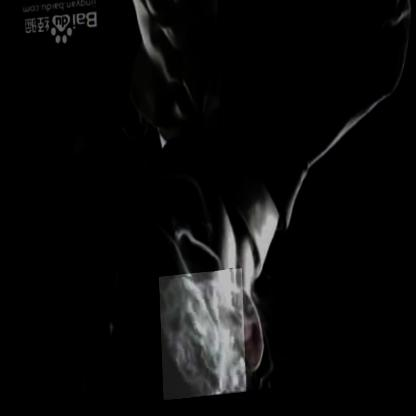smoke: (157, 273, 243, 404)
